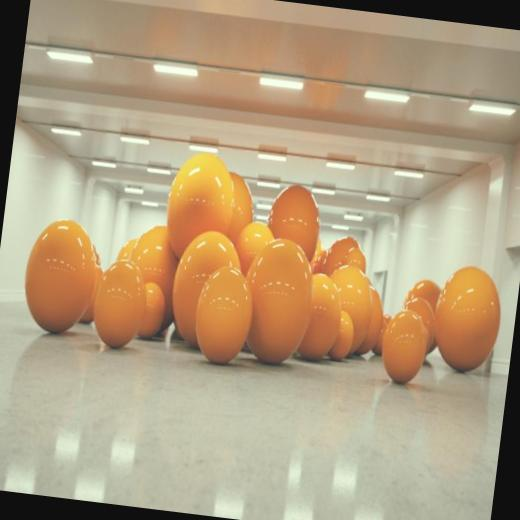Grape: (232, 232, 317, 360), (428, 262, 512, 376), (22, 219, 98, 337), (162, 152, 240, 261), (169, 224, 238, 344), (74, 261, 146, 349), (192, 268, 253, 358), (320, 264, 376, 356), (264, 183, 324, 261), (127, 226, 180, 305), (376, 310, 429, 387), (302, 272, 342, 360), (404, 276, 445, 350), (237, 216, 276, 274), (138, 283, 170, 353), (323, 230, 371, 274), (78, 240, 100, 324), (404, 288, 434, 349), (323, 313, 352, 354), (110, 240, 141, 272), (307, 254, 326, 280)
